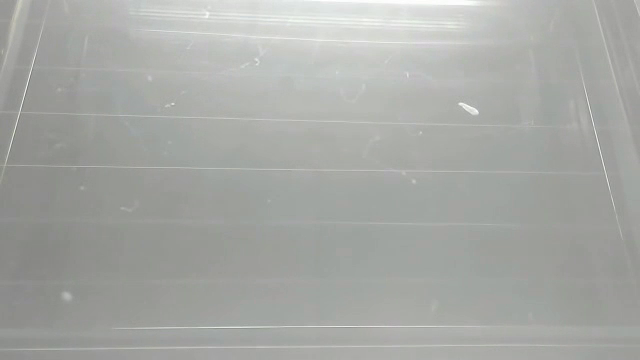alpha: (455, 99, 481, 118), (57, 289, 75, 306)
